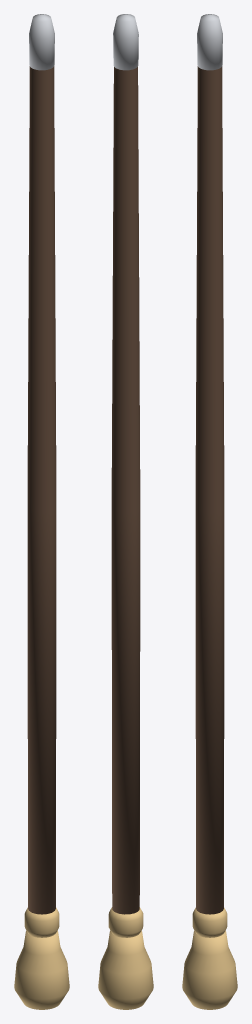
The model's file is dueling_cane.glb.
3 renders of one model, left to right at view 1: azimuth 90°, elevation 25°; view 2: azimuth 150°, elevation 25°; view 3: azimuth 270°, elevation 25°, orthographic.
Visible parts, largest first — view 1: dueling_cane_shaft, dueling_cane_knob, dueling_cane_ferrule, dueling_cane_collar; view 2: dueling_cane_shaft, dueling_cane_knob, dueling_cane_ferrule, dueling_cane_collar; view 3: dueling_cane_shaft, dueling_cane_knob, dueling_cane_ferrule, dueling_cane_collar.
Part boxes in pixels (x1,y1,x2,y2): dueling_cane_shaft: (27,66,56,914); dueling_cane_knob: (14,930,69,1009); dueling_cane_ferrule: (29,14,54,70); dueling_cane_collar: (24,907,59,937); dueling_cane_shaft: (111,67,140,914); dueling_cane_knob: (98,930,153,1009); dueling_cane_ferrule: (113,14,138,70); dueling_cane_collar: (108,907,143,937); dueling_cane_shaft: (195,66,224,914); dueling_cane_knob: (182,930,237,1009); dueling_cane_ferrule: (197,14,222,70); dueling_cane_collar: (192,907,227,937).
Size of the model in its own units: 0.048 by 0.943 by 0.048.
